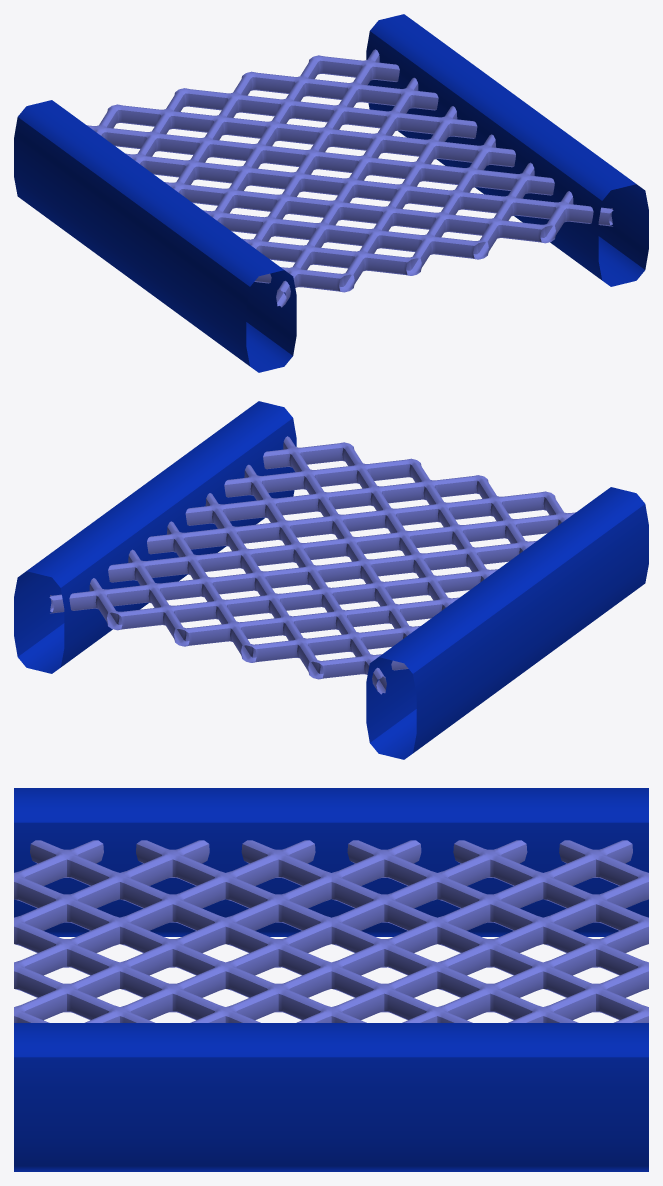
The model's file is a1_mid_color_wire_block.fbx.
The picture shows the model from 3 angles, top to bottom: view 1: azimuth 30°, elevation 25°; view 2: azimuth 150°, elevation 25°; view 3: azimuth 270°, elevation 25°; orthographic projection. The views are drawn at different scales.
Visible parts, largest first — view 1: mid_color_wire_block; view 2: mid_color_wire_block; view 3: mid_color_wire_block.
Part boxes in pixels (x1=…): mid_color_wire_block: x1=14, y1=14, x2=648, y2=372; mid_color_wire_block: x1=14, y1=401, x2=648, y2=759; mid_color_wire_block: x1=14, y1=788, x2=648, y2=1171.
Size of the model in its own units: 2 by 0.4586 by 2.
